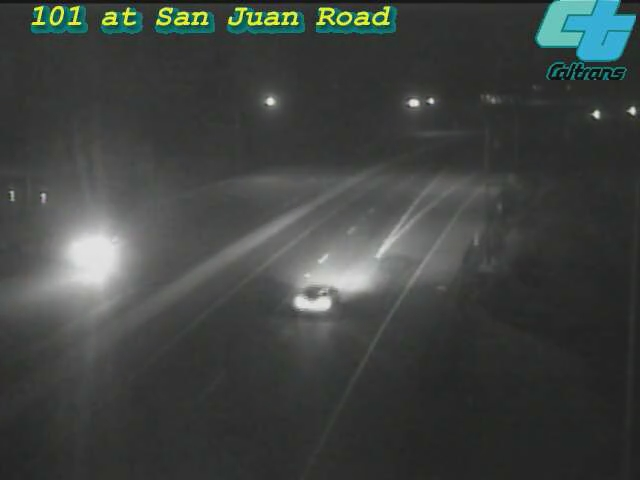vehicle: (50, 214, 130, 294), (278, 259, 358, 339), (571, 90, 621, 140), (605, 86, 640, 136)
